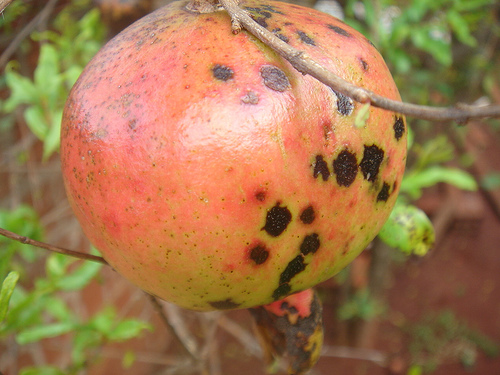pomogranate: (60, 1, 409, 363)
